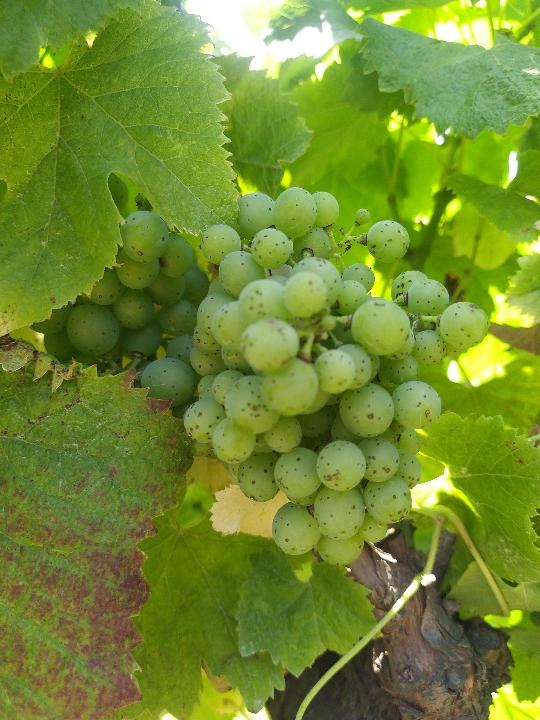grape: (133, 183, 490, 570)
